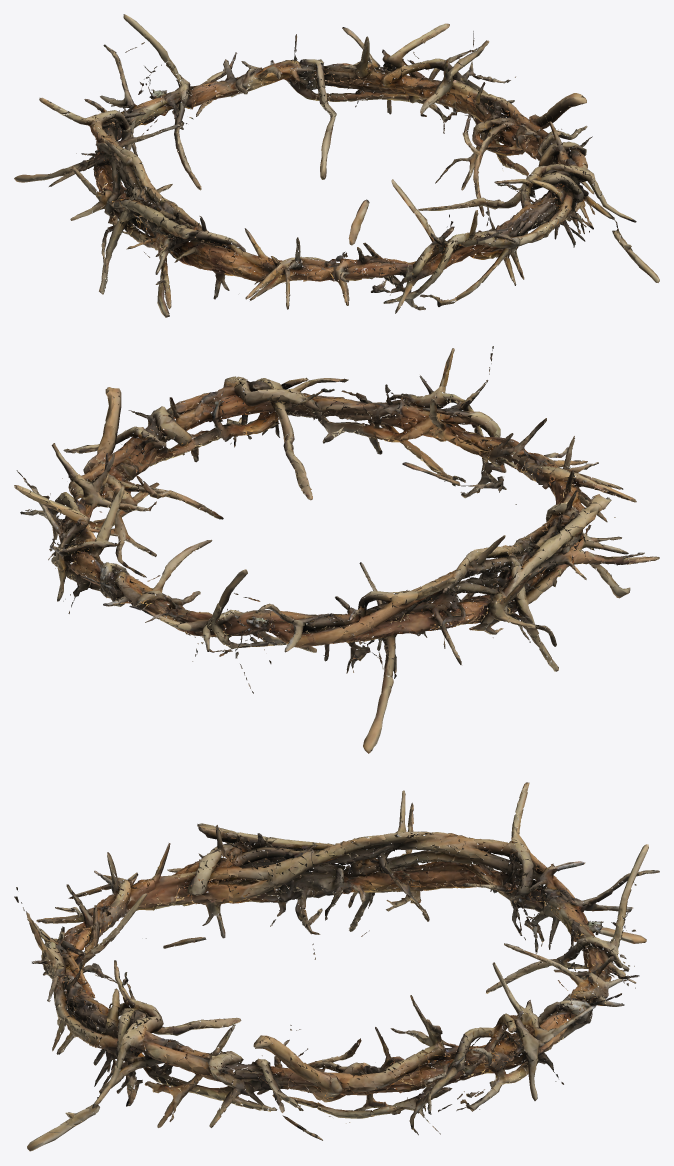
The model's file is crown_of_thorns.glb.
3 views of the same model, one above another, from view 1: azimuth 30°, elevation 25°; view 2: azimuth 150°, elevation 25°; view 3: azimuth 270°, elevation 25° (orthographic). The views are drawn at different scales.
Parts seen in each view (by area): view 1: Object_4, Object_7, Object_6, Object_5, Object_9, Object_11, Object_8, Object_10, Object_13, Object_12, Object_14; view 2: Object_7, Object_6, Object_11, Object_5, Object_4, Object_8, Object_13, Object_9, Object_10, Object_12, Object_14; view 3: Object_6, Object_7, Object_8, Object_5, Object_10, Object_4, Object_13, Object_12, Object_11, Object_9, Object_14.
Part boxes in pixels (left/top/right/bottom): Object_4: left=86, top=31, right=583, bottom=312; Object_7: left=39, top=61, right=621, bottom=308; Object_6: left=49, top=23, right=593, bottom=302; Object_5: left=77, top=45, right=594, bottom=309; Object_9: left=81, top=51, right=659, bottom=313; Object_11: left=14, top=14, right=449, bottom=190; Object_8: left=110, top=67, right=602, bottom=292; Object_10: left=70, top=40, right=516, bottom=262; Object_13: left=155, top=121, right=599, bottom=317; Object_12: left=39, top=49, right=586, bottom=294; Object_14: left=245, top=172, right=636, bottom=309; Object_7: left=50, top=376, right=659, bottom=688; Object_6: left=16, top=377, right=629, bottom=671; Object_11: left=14, top=485, right=459, bottom=753; Object_5: left=25, top=357, right=635, bottom=661; Object_4: left=16, top=348, right=620, bottom=663; Object_8: left=74, top=353, right=607, bottom=645; Object_13: left=121, top=378, right=659, bottom=598; Object_9: left=31, top=346, right=587, bottom=679; Object_10: left=20, top=443, right=550, bottom=649; Object_12: left=39, top=387, right=586, bottom=678; Object_14: left=212, top=377, right=636, bottom=502; Object_6: left=38, top=814, right=639, bottom=1126; Object_7: left=42, top=782, right=631, bottom=1135; Object_8: left=14, top=825, right=608, bottom=1115; Object_5: left=15, top=791, right=654, bottom=1121; Object_10: left=342, top=790, right=503, bottom=1134; Object_4: left=26, top=835, right=635, bottom=1123; Object_13: left=112, top=823, right=276, bottom=1127; Object_12: left=253, top=782, right=597, bottom=1140; Object_11: left=481, top=839, right=659, bottom=1100; Object_9: left=16, top=844, right=631, bottom=1151; Object_14: left=70, top=870, right=125, bottom=1124.
Size of the model in its own units: 1.86 by 0.5576 by 1.9.
Materials: 1 (1 with a texture image).
